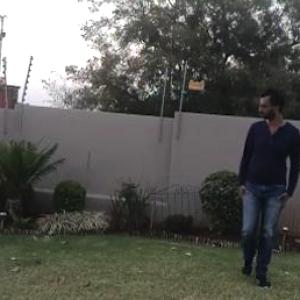follow: (234, 82, 296, 288)
